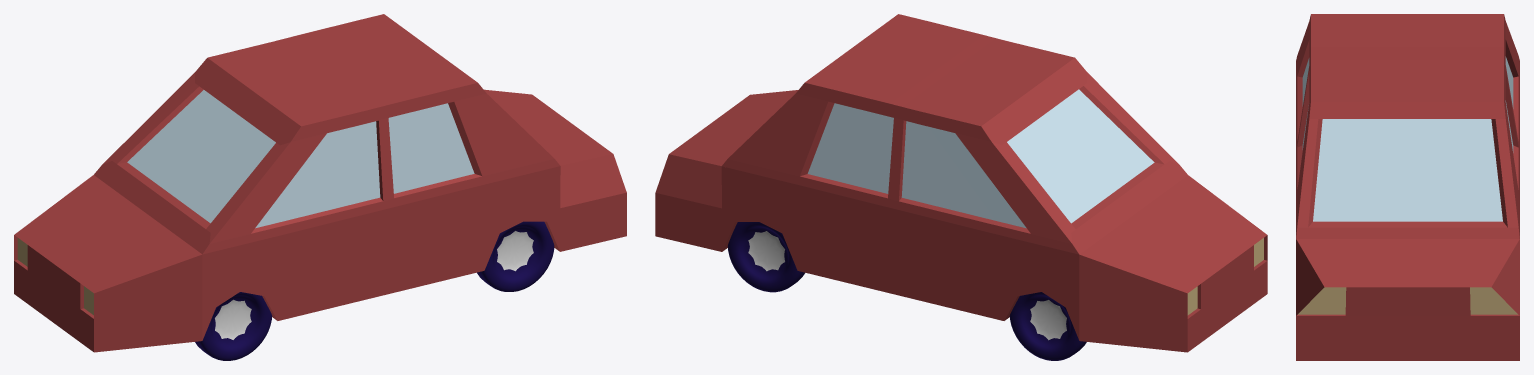
File: car2.glb
3 renders of one model, left to right at view 1: azimuth 30°, elevation 25°; view 2: azimuth 150°, elevation 25°; view 3: azimuth 270°, elevation 25°, orthographic. The views are drawn at different scales.
Visible parts, largest first — view 1: Car; view 2: Car; view 3: Car.
Boxes of the visible parts, bbox=[...] form: Car: bbox=[14, 14, 626, 360]; Car: bbox=[655, 14, 1267, 360]; Car: bbox=[1296, 14, 1519, 360].
Size of the model in its own units: 1 by 0.4001 by 0.3643.
